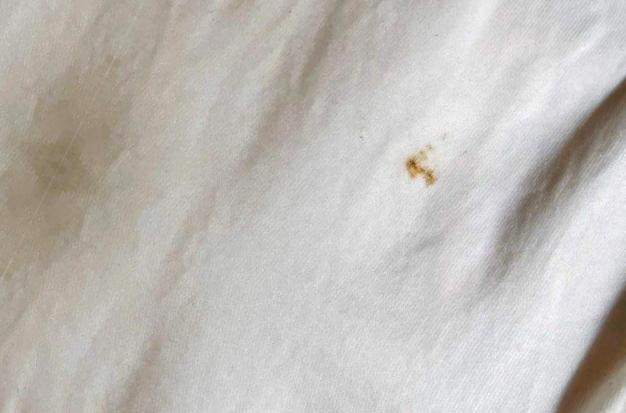stain: (401, 143, 442, 189)
